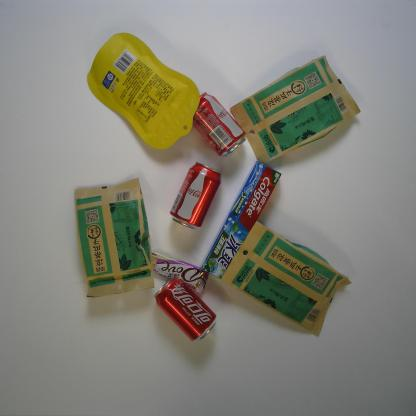Chocolate: (135, 245, 210, 293)
Dried Food: (219, 221, 352, 338), (228, 54, 363, 166), (74, 175, 156, 297)
Dried Fruit: (86, 31, 201, 151)
Drink: (153, 274, 217, 344), (186, 90, 248, 158), (169, 161, 222, 231)
Personal Hygiene: (199, 161, 282, 284)
